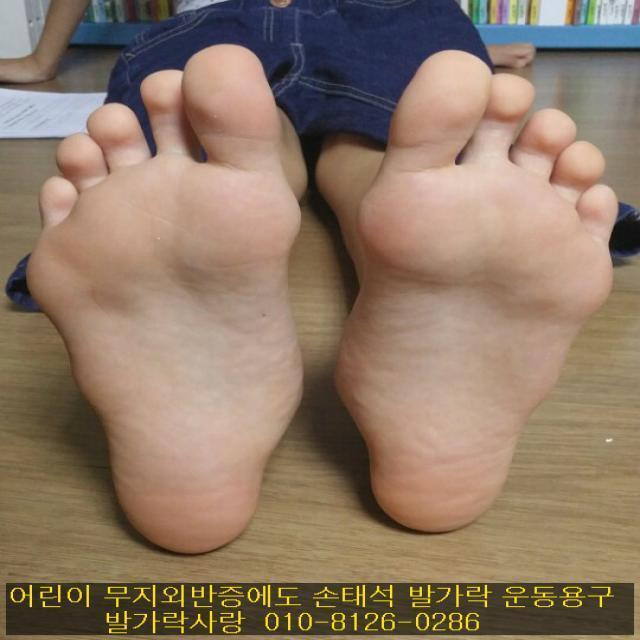No_Shoes: (40, 44, 314, 566), (357, 44, 618, 526)
